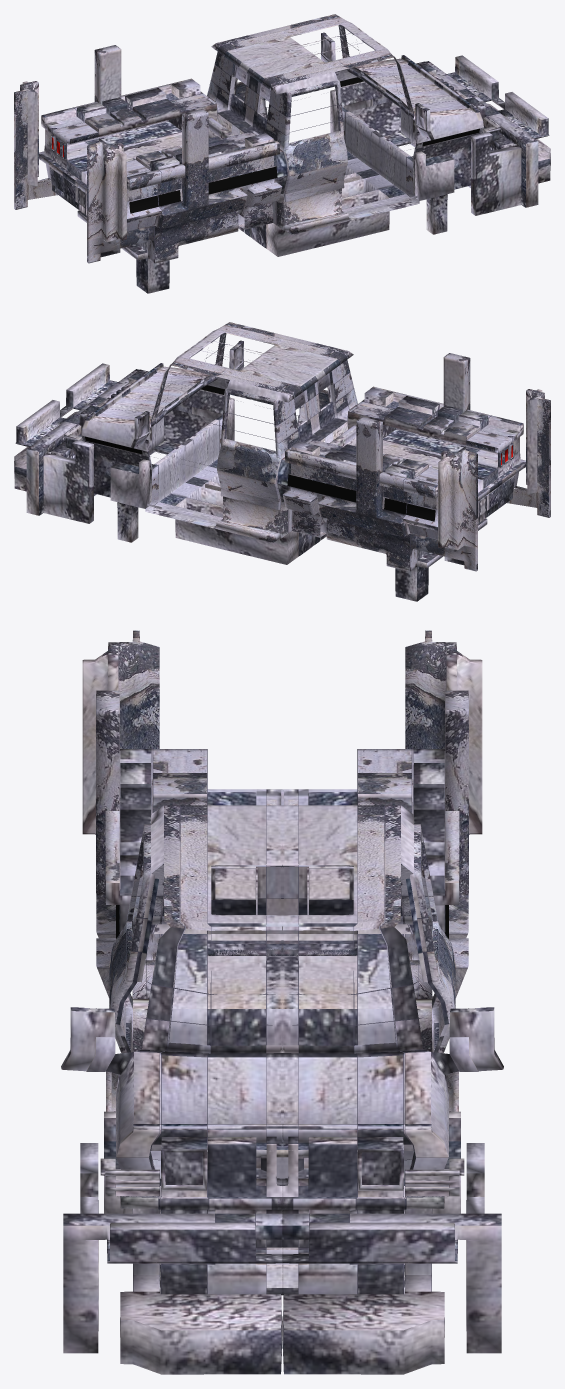
Rendered from camionnete.obj.
3 views of the same model, one above another, from view 1: azimuth 30°, elevation 25°; view 2: azimuth 150°, elevation 25°; view 3: azimuth 270°, elevation 25° (orthographic). The views are drawn at different scales.
Visible parts, largest first — view 1: body_car_Cube; view 2: body_car_Cube; view 3: body_car_Cube.
Boxes of the visible parts, x1,y1,x2,y2 form: body_car_Cube: (14, 14, 550, 293); body_car_Cube: (14, 322, 550, 601); body_car_Cube: (61, 630, 503, 1374).
Size of the model in its own units: 47.27 by 17.87 by 19.33.
5 materials, 3 textured.
